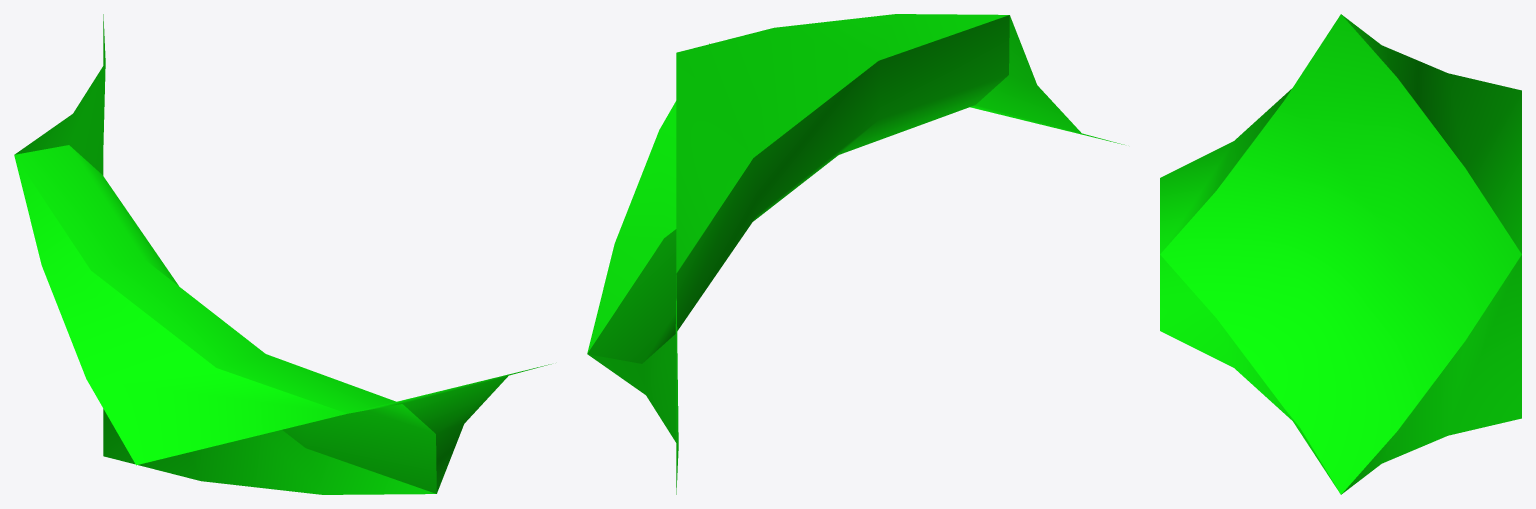
3 renders of one model, left to right at view 1: azimuth 30°, elevation 25°; view 2: azimuth 150°, elevation 25°; view 3: azimuth 270°, elevation 25°, orthographic. The views are drawn at different scales.
Visible parts, largest first — view 1: None_E_G_E_E_G_G_G_E_None; view 2: None_E_G_E_E_G_G_G_E_None; view 3: None_E_G_E_E_G_G_G_E_None.
Boxes of the visible parts, bbox=[...] form: None_E_G_E_E_G_G_G_E_None: bbox=[14, 14, 551, 494]; None_E_G_E_E_G_G_G_E_None: bbox=[587, 14, 1124, 494]; None_E_G_E_E_G_G_G_E_None: bbox=[1160, 14, 1521, 494].
Size of the model in its own units: 100 by 100 by 100.
